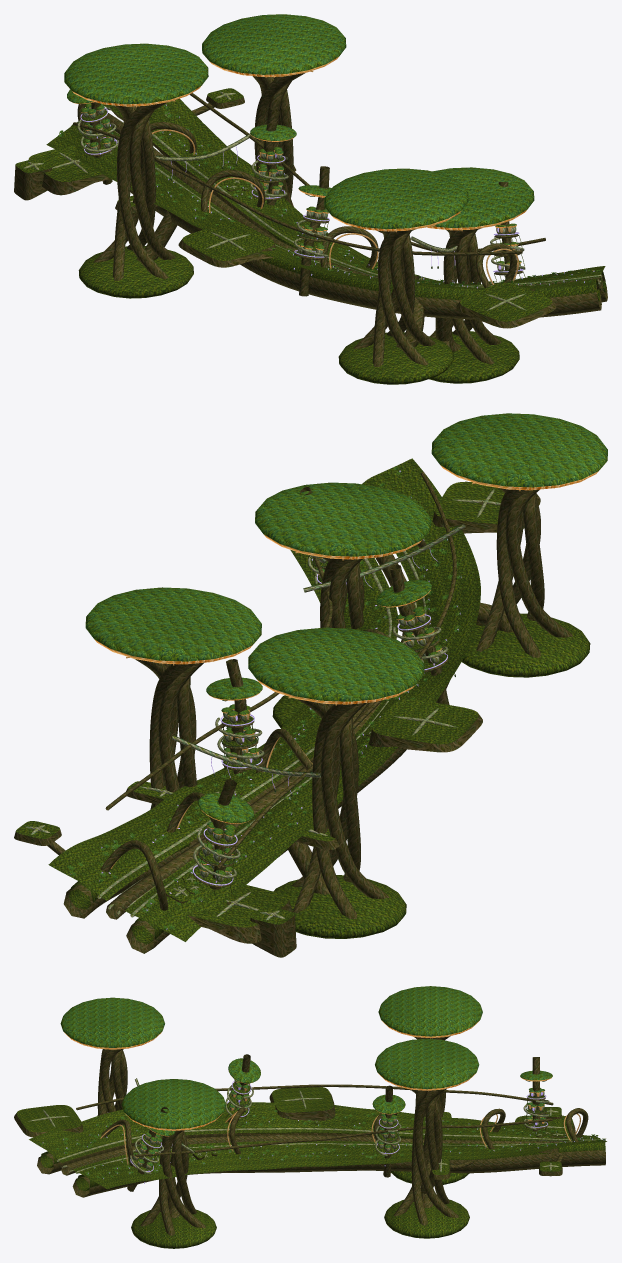
The model's file is rootwake.glb.
3 renders of one model, top to bottom at view 1: azimuth 30°, elevation 25°; view 2: azimuth 150°, elevation 25°; view 3: azimuth 270°, elevation 25°, orthographic. The views are drawn at different scales.
Bounding box in the file's own units: 529 × 366 × 1079.
Materials: 8 (8 with a texture image).
